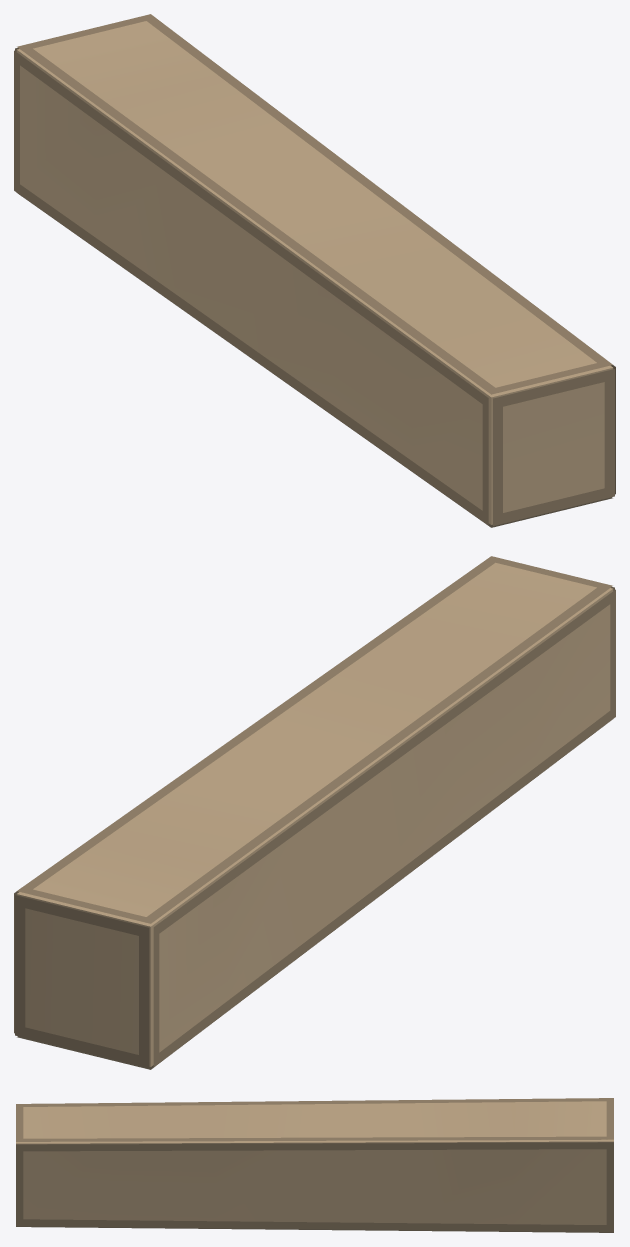
Rendered from key.glb.
3 views of the same model, one above another, from view 1: azimuth 30°, elevation 25°; view 2: azimuth 150°, elevation 25°; view 3: azimuth 270°, elevation 25° (orthographic). The views are drawn at different scales.
Visible parts, largest first — view 1: key; view 2: key; view 3: key.
Boxes of the visible parts, x1,y1,x2,y2 form: key: [14, 14, 615, 527]; key: [14, 556, 615, 1069]; key: [16, 1098, 613, 1232].
Bounding box in the file's own units: 0.0206 × 0.0206 × 0.1206.
